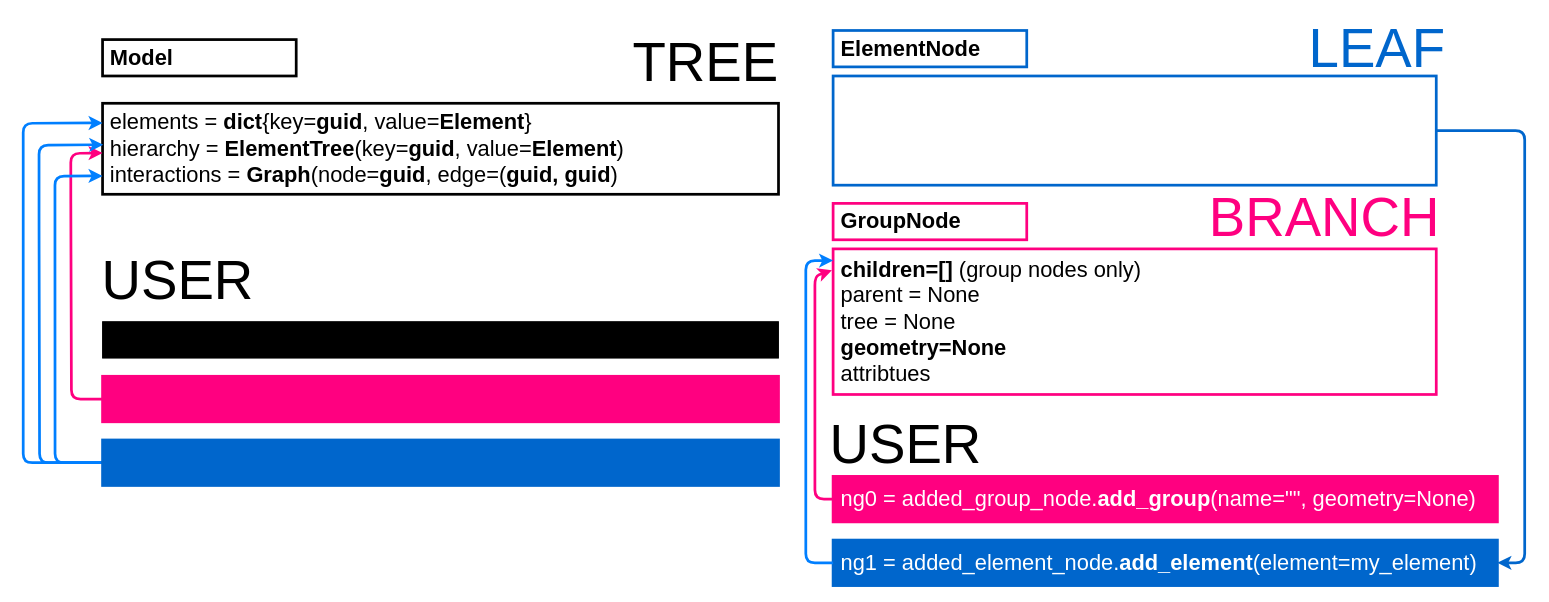
Some shapes in this 1549 by 602 pixel diagram are drawn without their labels. The centre of each missing label's shape, as x and y in pixels:
added_element_node = model. add_element (element=my_element): point 440,462
added_group_node = model. add_group (name="", geometry=None): point 440,398
model = Model (): point 440,339
parent = None tree = None element=None attribtues: point 1134,130
